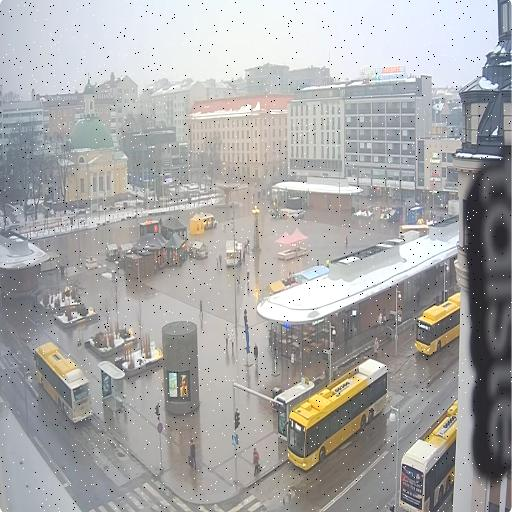Bus: (287, 358, 388, 470), (399, 399, 458, 511), (34, 342, 92, 423), (415, 292, 460, 355)
